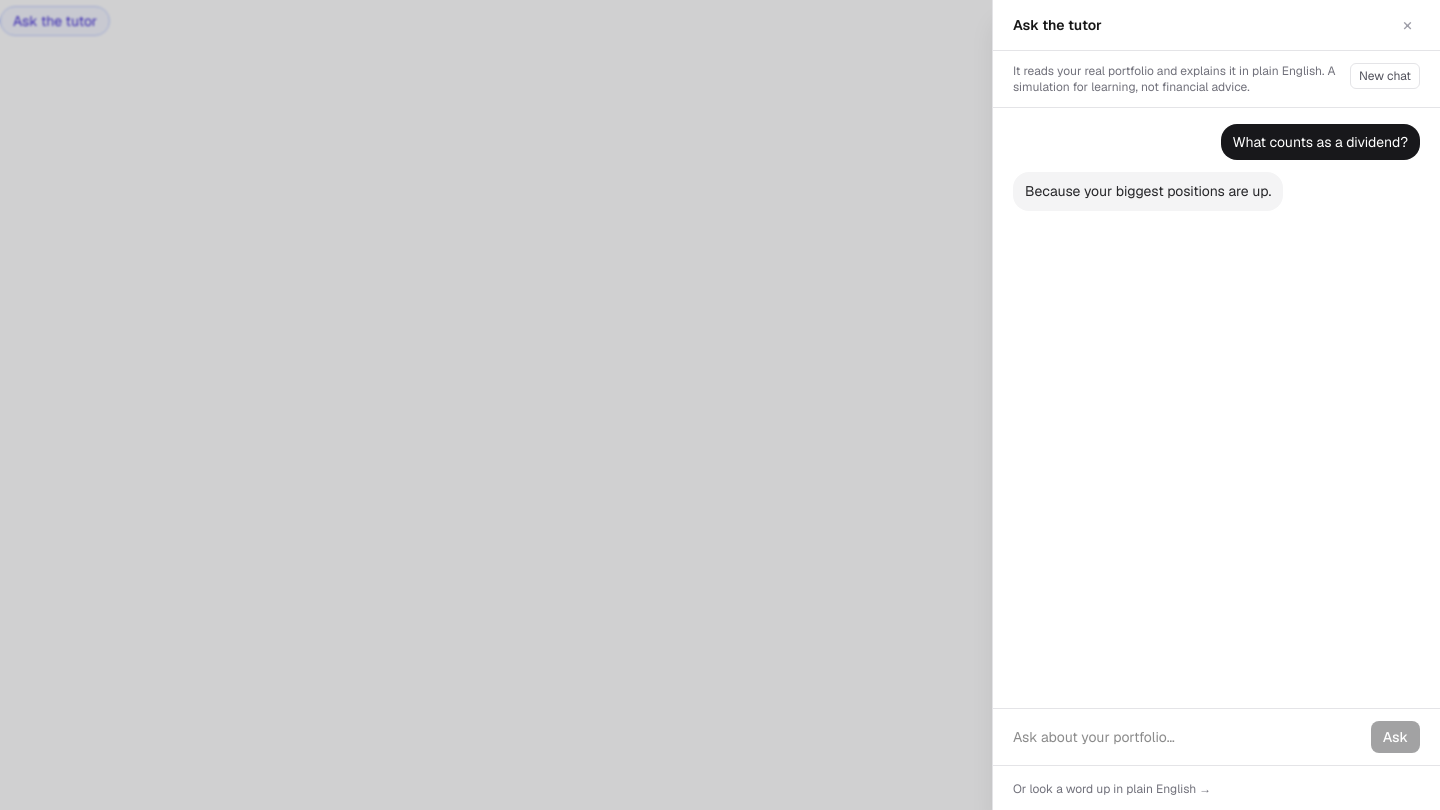
TutorPanel › clears the chat once the warning is accepted
What coordinates should you click on to do the following:
click the button "New chat"
I would click on:
 (1385, 76)
Its box is [1350, 63, 1420, 89].
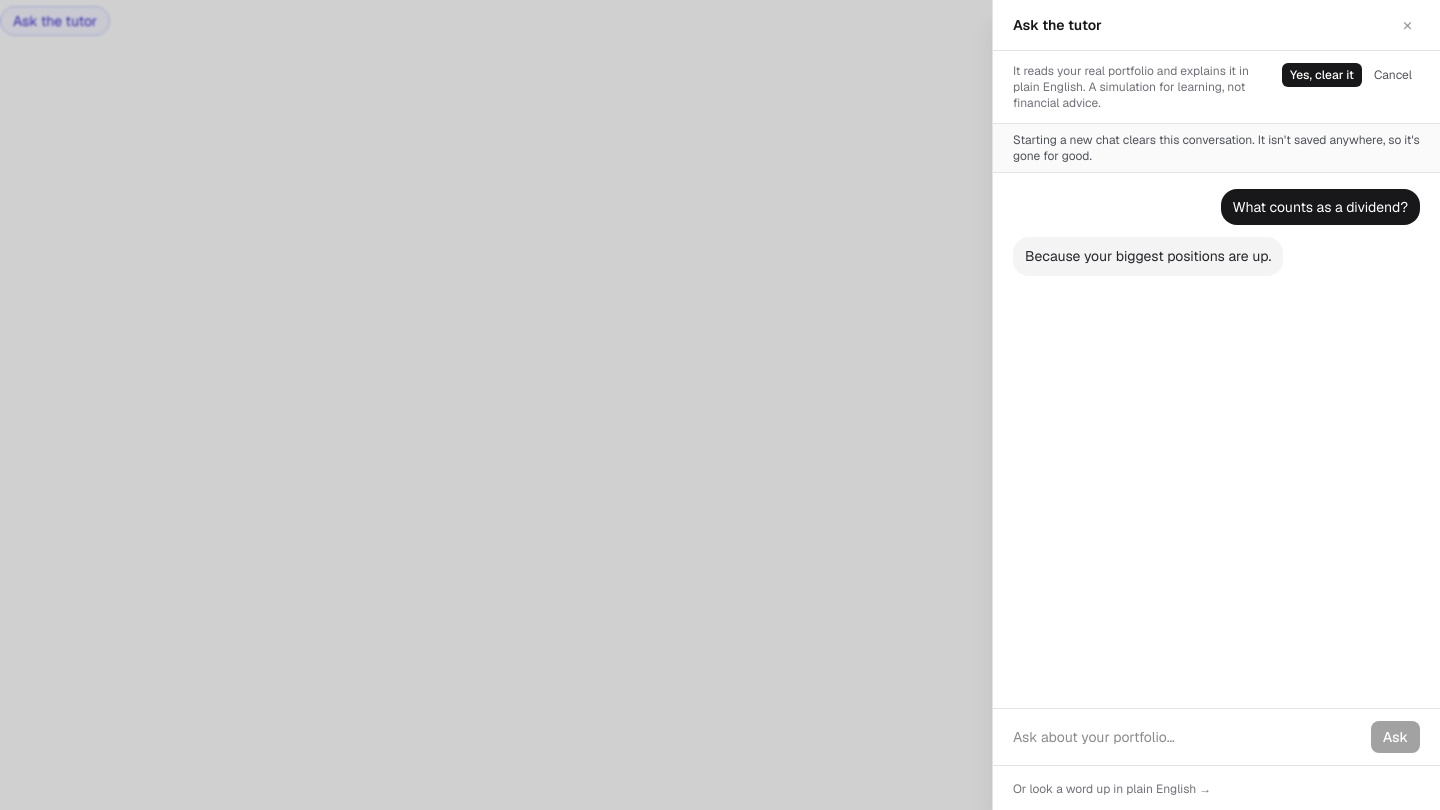
What coordinates should you click on to do the following:
click the button "Yes, clear it"
I would click on:
 (1322, 75)
Its box is [1282, 63, 1362, 87].
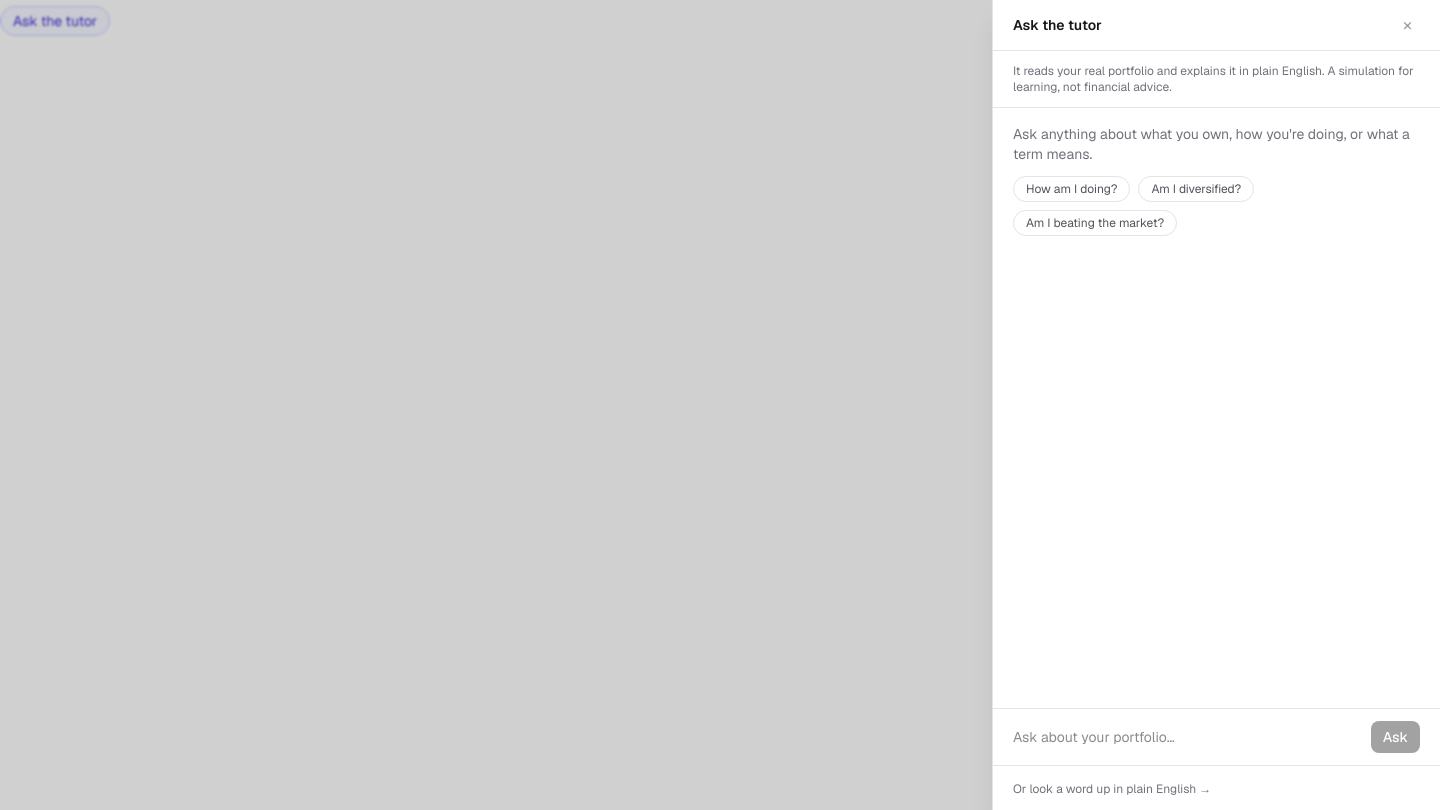
expect the text "What counts as a dividend" is gone: met
expect the text "new chat" is gone: met
